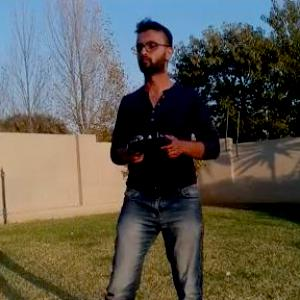follow: (100, 16, 225, 299)
